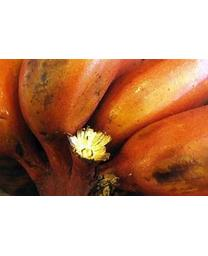banana: (1, 60, 207, 196)
